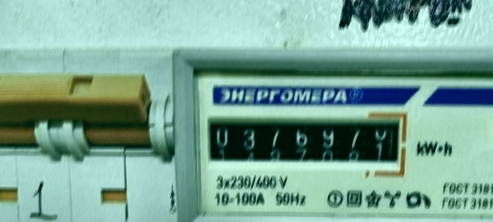0: (212, 125, 226, 147)
1: (370, 141, 382, 161)
3: (239, 128, 254, 150)
6: (291, 123, 306, 146)
7: (264, 125, 279, 148), (345, 126, 359, 149)
9: (317, 125, 332, 148)
screen: (196, 107, 407, 181)
